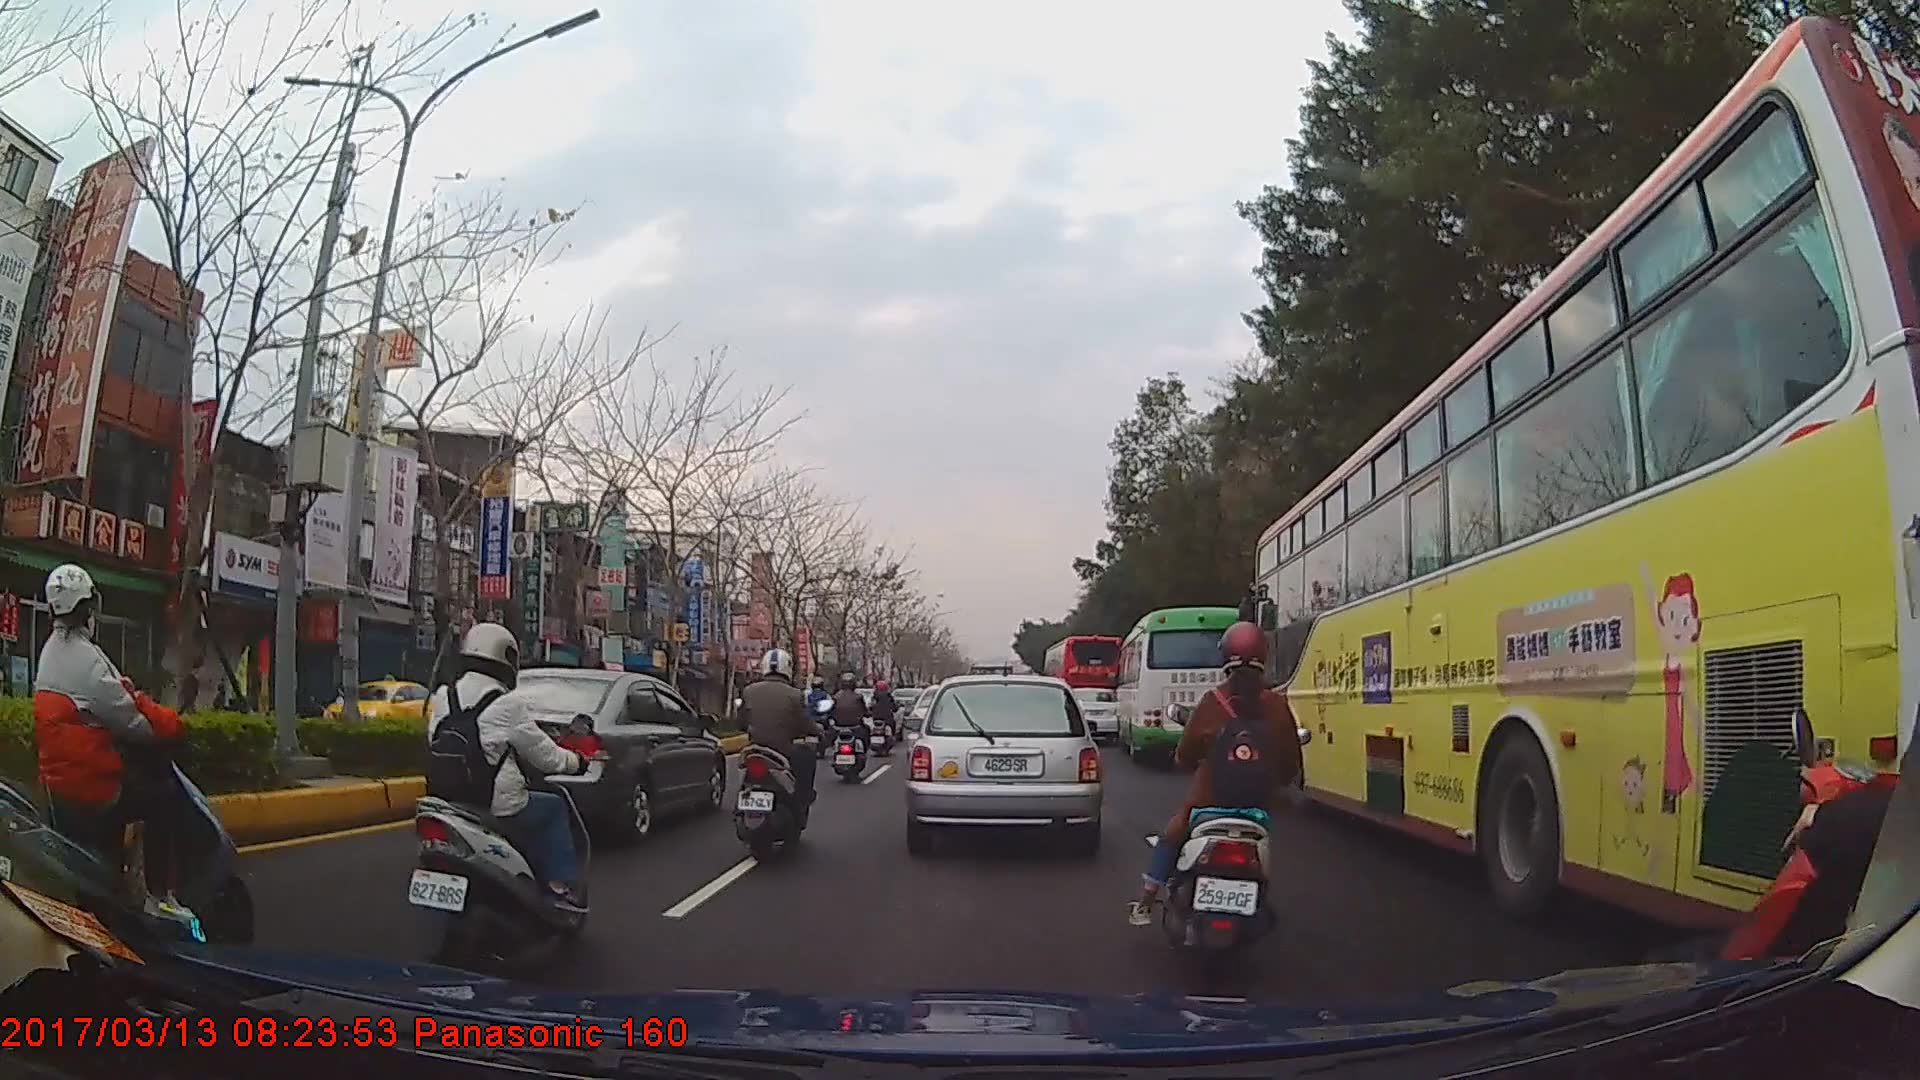rider: (1, 564, 254, 974), (408, 622, 600, 971), (1145, 620, 1314, 989), (736, 648, 828, 866), (829, 673, 869, 784), (869, 679, 899, 758), (804, 675, 837, 743)
vehicle: (1256, 18, 1920, 941), (423, 664, 726, 843), (907, 671, 1101, 850), (1115, 604, 1265, 764), (1044, 633, 1130, 735)
